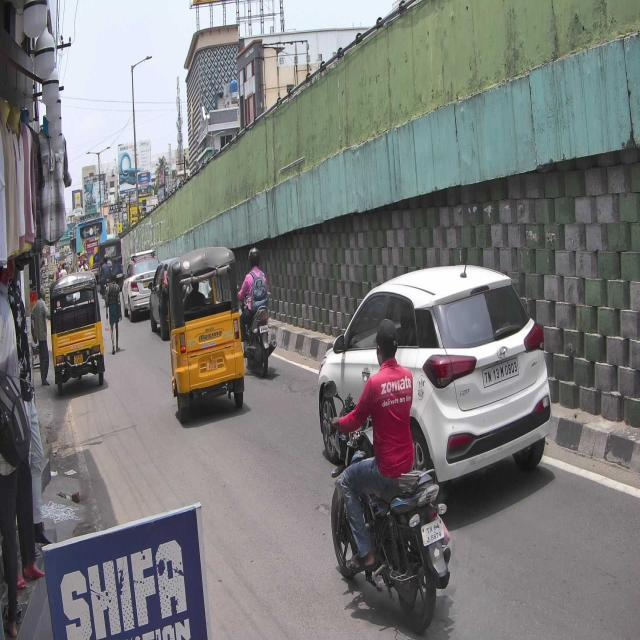single_rider: (325, 314, 451, 633)
